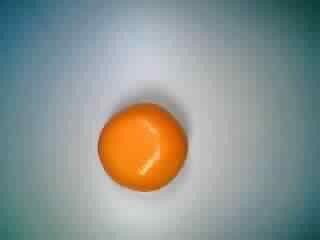orange: (91, 100, 192, 197)
